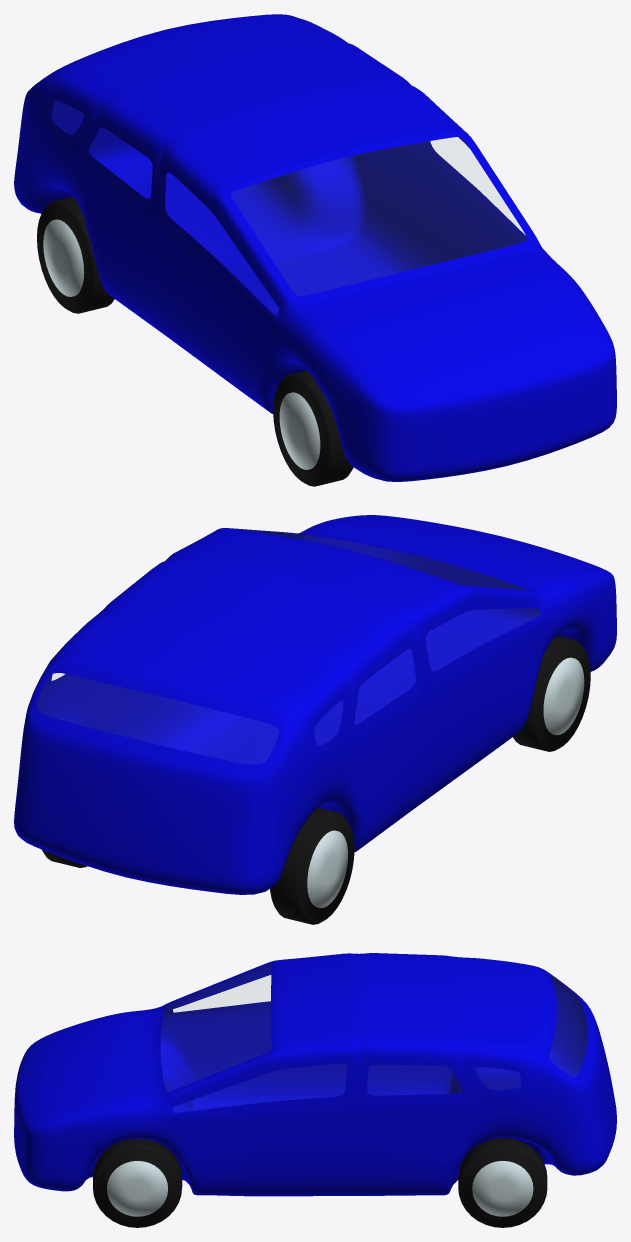
File: CarPH.dae
3 renders of one model, top to bottom at view 1: azimuth 30°, elevation 25°; view 2: azimuth 150°, elevation 25°; view 3: azimuth 270°, elevation 25°, orthographic. The views are drawn at different scales.
Visible parts, largest first — view 1: CarPH, Wheel.001, Wheel.000; view 2: CarPH, Wheel.000, Wheel.001; view 3: CarPH, Wheel.000, Wheel.001.
Boxes of the visible parts, box(x1,y1,x2,y2) form: CarPH: box(14, 14, 616, 481); Wheel.001: box(273, 370, 353, 486); Wheel.000: box(37, 197, 114, 313); CarPH: box(14, 515, 616, 894); Wheel.000: box(42, 807, 354, 924); Wheel.001: box(513, 635, 590, 751); CarPH: box(14, 953, 616, 1196); Wheel.000: box(458, 1138, 547, 1227); Wheel.001: box(93, 1138, 182, 1227).
Size of the model in its own units: 2.91 by 7.27 by 2.53.
